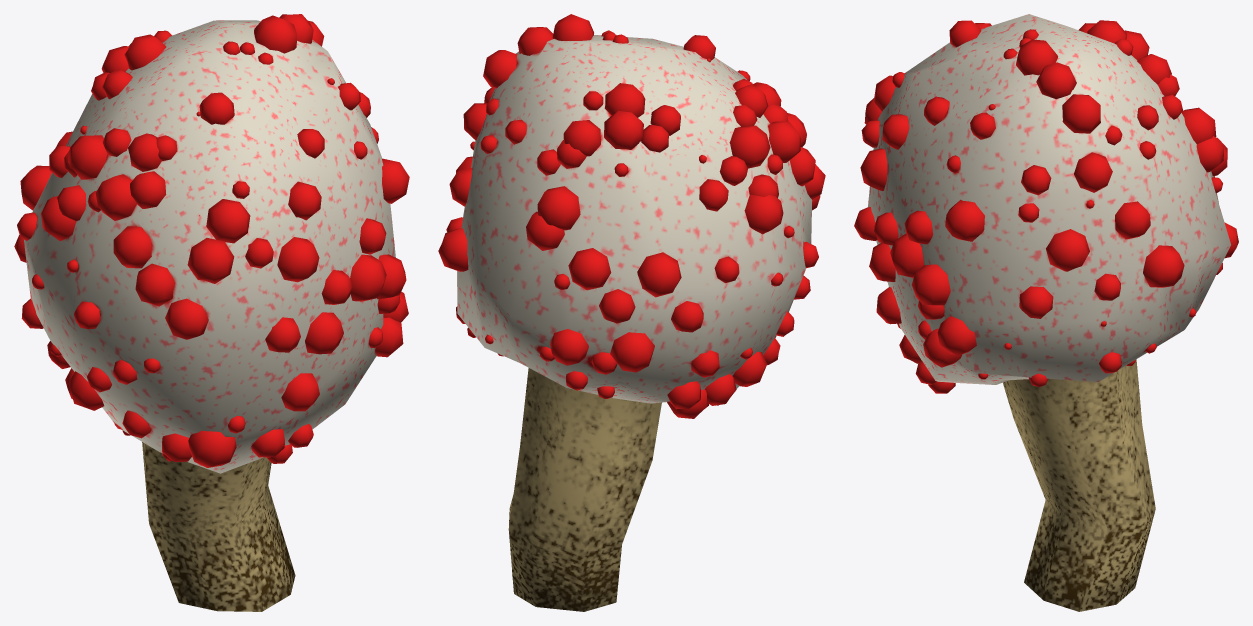
Rendered from champignon3.fbx.
3 renders of one model, left to right at view 1: azimuth 30°, elevation 25°; view 2: azimuth 150°, elevation 25°; view 3: azimuth 270°, elevation 25°, orthographic. The views are drawn at different scales.
Visible parts, largest first — view 1: champignon_3_LOD0; view 2: champignon_3_LOD0; view 3: champignon_3_LOD0.
Boxes of the visible parts, x1,y1,x2,y2 form: champignon_3_LOD0: (14, 14, 409, 611); champignon_3_LOD0: (438, 14, 825, 611); champignon_3_LOD0: (854, 14, 1238, 611).
Size of what is drawn, in the model's own units: 211 by 347 by 219.
